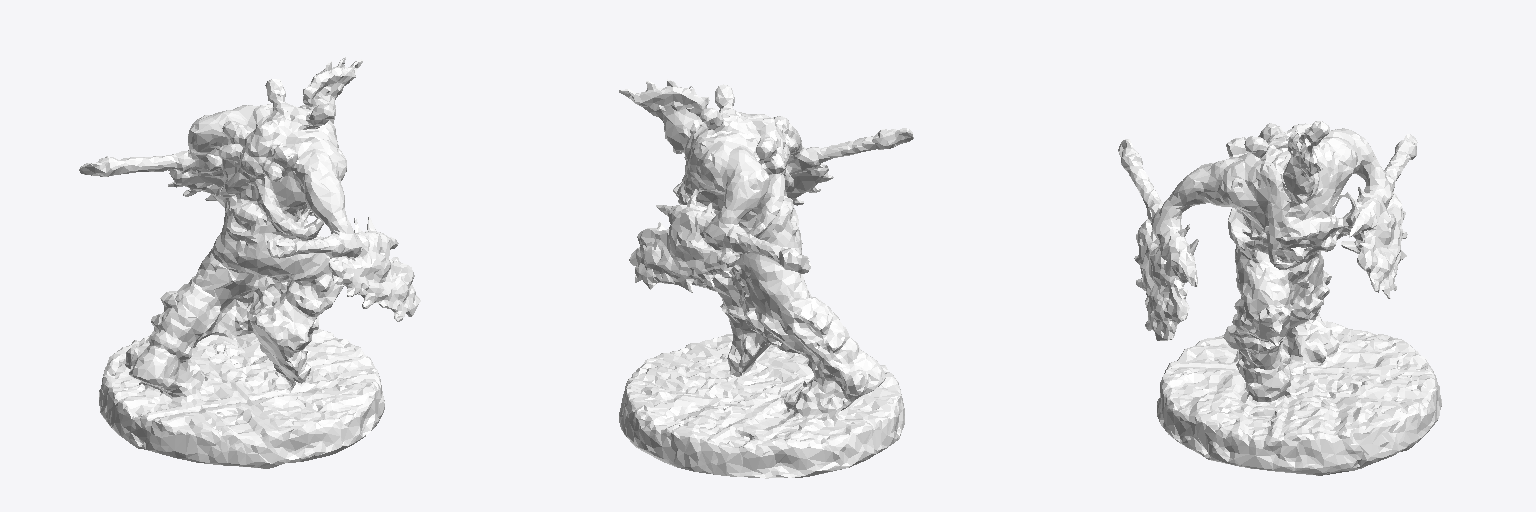
File: Goliaths_15.obj
3 renders of one model, left to right at view 1: azimuth 30°, elevation 25°; view 2: azimuth 150°, elevation 25°; view 3: azimuth 270°, elevation 25°, orthographic.
Parts seen in each view (by area): view 1: Goliaths_15_zephyr; view 2: Goliaths_15_zephyr; view 3: Goliaths_15_zephyr.
Part boxes in pixels (left/top/right/bottom): Goliaths_15_zephyr: left=79, top=57, right=420, bottom=468; Goliaths_15_zephyr: left=619, top=79, right=913, bottom=478; Goliaths_15_zephyr: left=1118, top=121, right=1441, bottom=475.
Size of the model in its own units: 1.59 by 1.94 by 1.74.